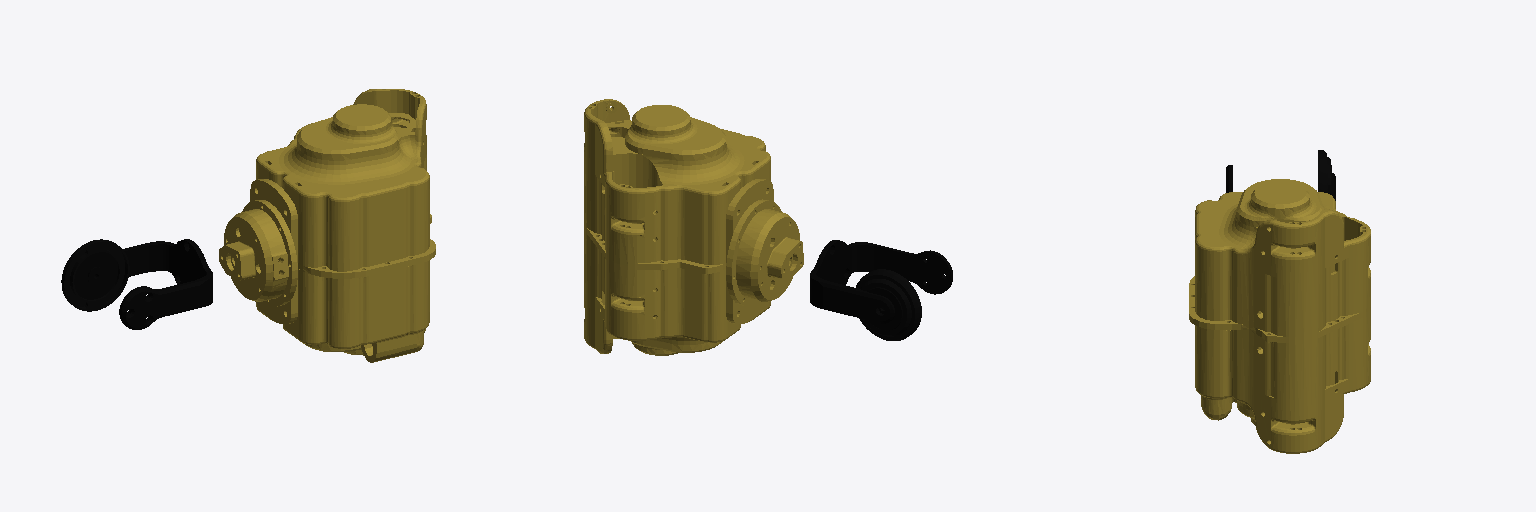
Rendered from endEffectorWPalm_right.obj.
The picture shows the model from 3 angles: view 1: azimuth 30°, elevation 25°; view 2: azimuth 150°, elevation 25°; view 3: azimuth 270°, elevation 25°; orthographic projection.
Visible parts, largest first — view 1: palm.001_palm.002, wrist_yaw_right.005_wrist_yaw_right.006, wrist_yaw_right_flange.005_wrist_yaw_right_flange.006; view 2: palm.001_palm.002, wrist_yaw_right.005_wrist_yaw_right.006, wrist_yaw_right_flange.005_wrist_yaw_right_flange.006; view 3: palm.001_palm.002.
Part boxes in pixels (left/top/right/bottom): palm.001_palm.002: left=219, top=89, right=435, bottom=362; wrist_yaw_right.005_wrist_yaw_right.006: left=74, top=239, right=212, bottom=329; wrist_yaw_right_flange.005_wrist_yaw_right_flange.006: left=61, top=239, right=129, bottom=311; palm.001_palm.002: left=584, top=99, right=803, bottom=355; wrist_yaw_right.005_wrist_yaw_right.006: left=810, top=240, right=952, bottom=330; wrist_yaw_right_flange.005_wrist_yaw_right_flange.006: left=856, top=269, right=921, bottom=340; palm.001_palm.002: left=1189, top=179, right=1370, bottom=453.
Size of the model in its own units: 0.2431 by 0.154 by 0.1113.